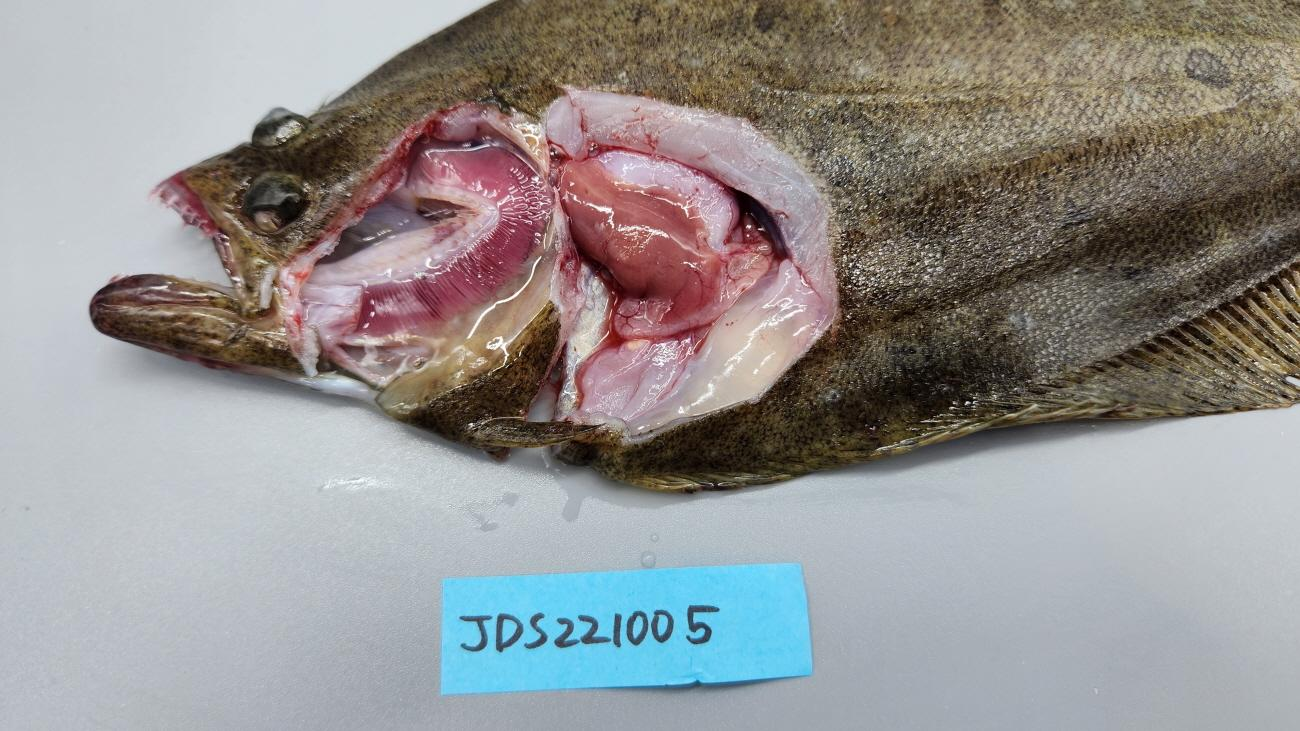VIGIP: (378, 292, 426, 312)
VILIC: (559, 164, 715, 313)
